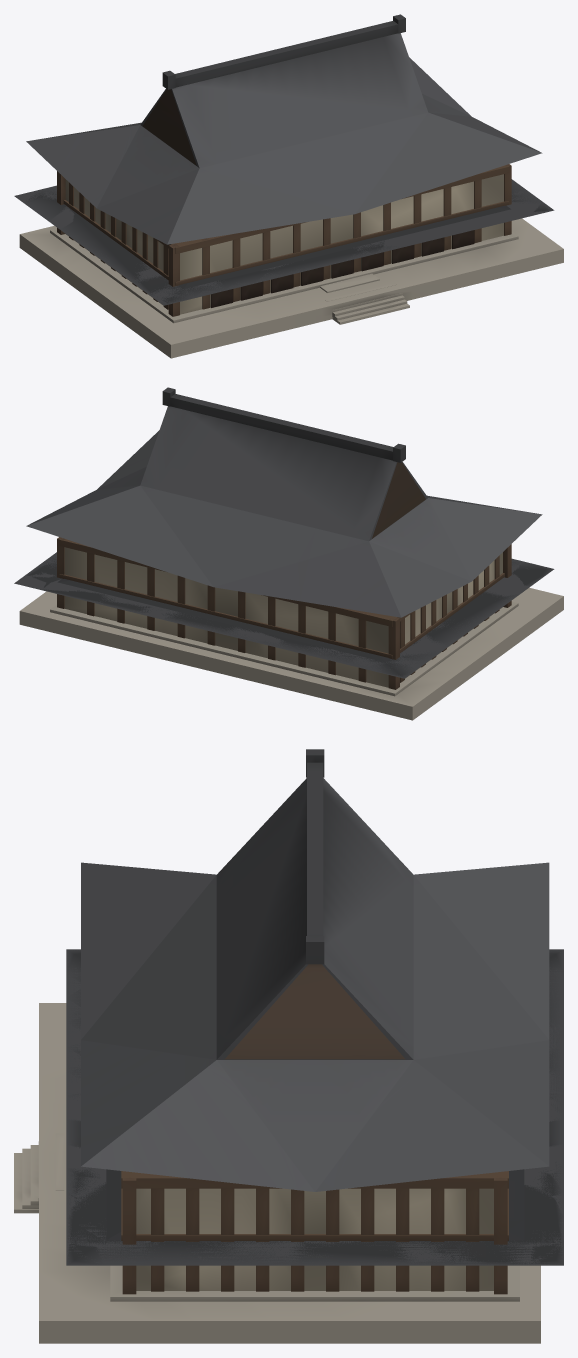
Rendered from hokoji-daibutsuden.glb.
3 views of the same model, one above another, from view 1: azimuth 30°, elevation 25°; view 2: azimuth 150°, elevation 25°; view 3: azimuth 270°, elevation 25° (orthographic). The views are drawn at different scales.
Visible parts, largest first — view 1: p2_roofs, p1_halls, p0_grounds; view 2: p2_roofs, p1_halls, p0_grounds; view 3: p2_roofs, p1_halls, p0_grounds.
Part boxes in pixels (bbox=[...]): p2_roofs: bbox=[14, 14, 554, 305]; p1_halls: bbox=[50, 164, 518, 323]; p0_grounds: bbox=[19, 218, 563, 358]; p2_roofs: bbox=[14, 387, 554, 678]; p1_halls: bbox=[50, 537, 518, 696]; p0_grounds: bbox=[19, 587, 563, 720]; p2_roofs: bbox=[66, 749, 563, 1265]; p1_halls: bbox=[110, 1171, 519, 1301]; p0_grounds: bbox=[14, 1003, 540, 1343].
Size of the model in its own units: 90 by 44.76 by 65.74.
